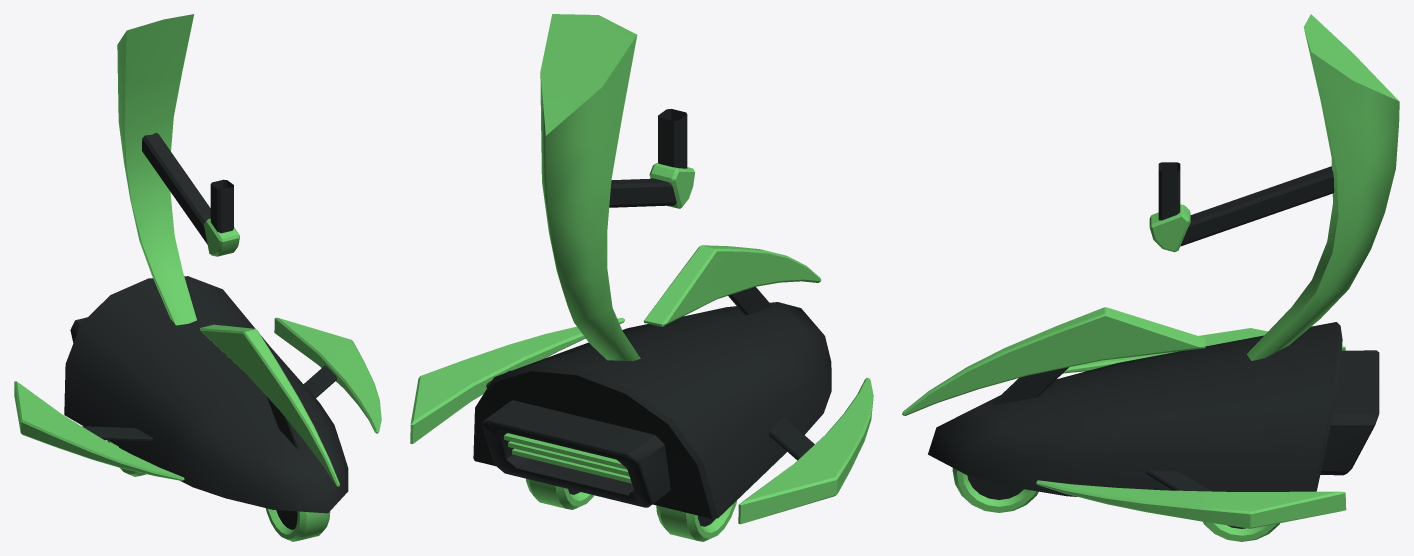
Rendered from Legs_A_01.fbx.
3 renders of one model, left to right at view 1: azimuth 30°, elevation 25°; view 2: azimuth 150°, elevation 25°; view 3: azimuth 270°, elevation 25°, orthographic. The views are drawn at different scales.
Visible parts, largest first — view 1: blackParts, greenParts; view 2: blackParts, greenParts; view 3: blackParts, greenParts.
Boxes of the visible parts, left/top/right/bottom form: blackParts: left=64, top=132, right=348, bottom=529; greenParts: left=14, top=14, right=381, bottom=541; blackParts: left=473, top=109, right=831, bottom=526; greenParts: left=410, top=14, right=873, bottom=541; blackParts: left=928, top=162, right=1379, bottom=528; greenParts: left=902, top=14, right=1399, bottom=541.
Bounding box in the file's own units: 21.2 × 25.65 × 24.08.
